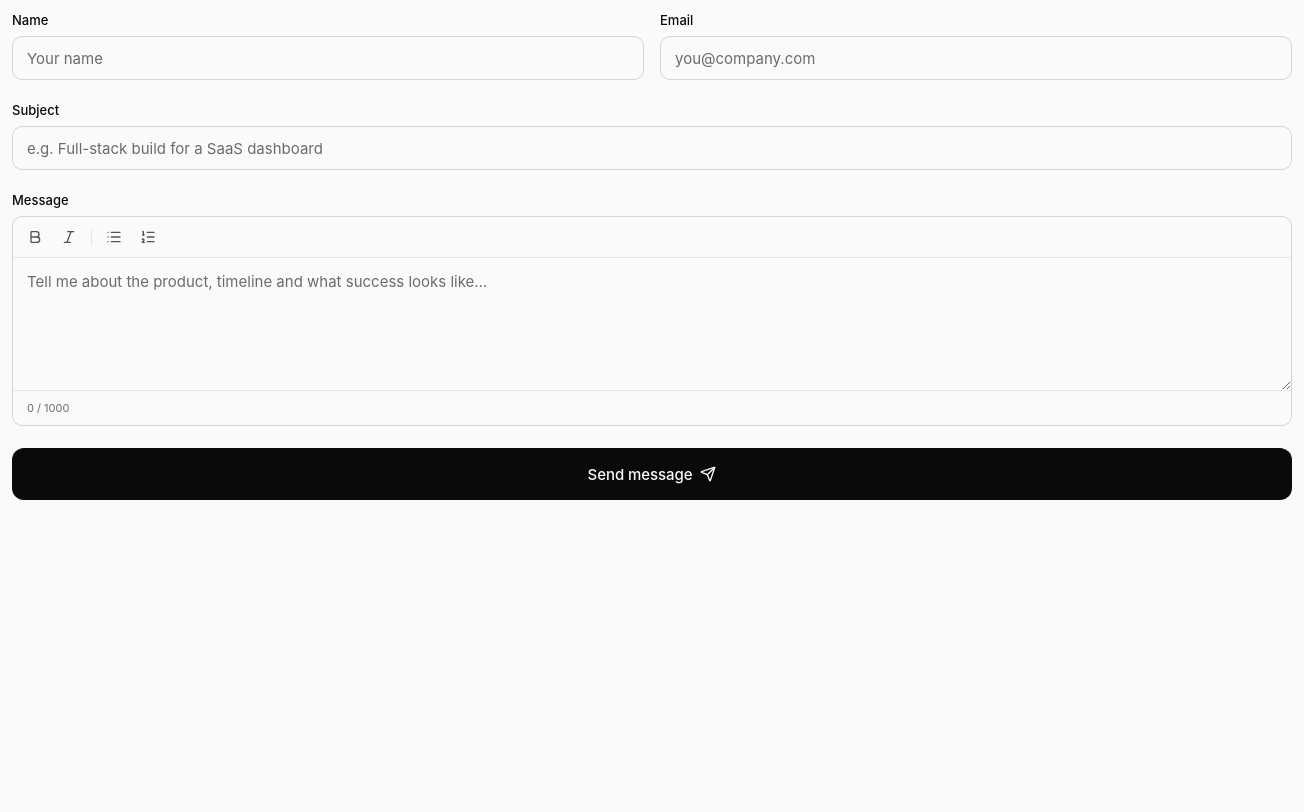
Test case: ContactForm › clears only the edited field's error as the visitor types
Step 1. Click the button "Send message" → (652, 474), box [12,448,1292,500]
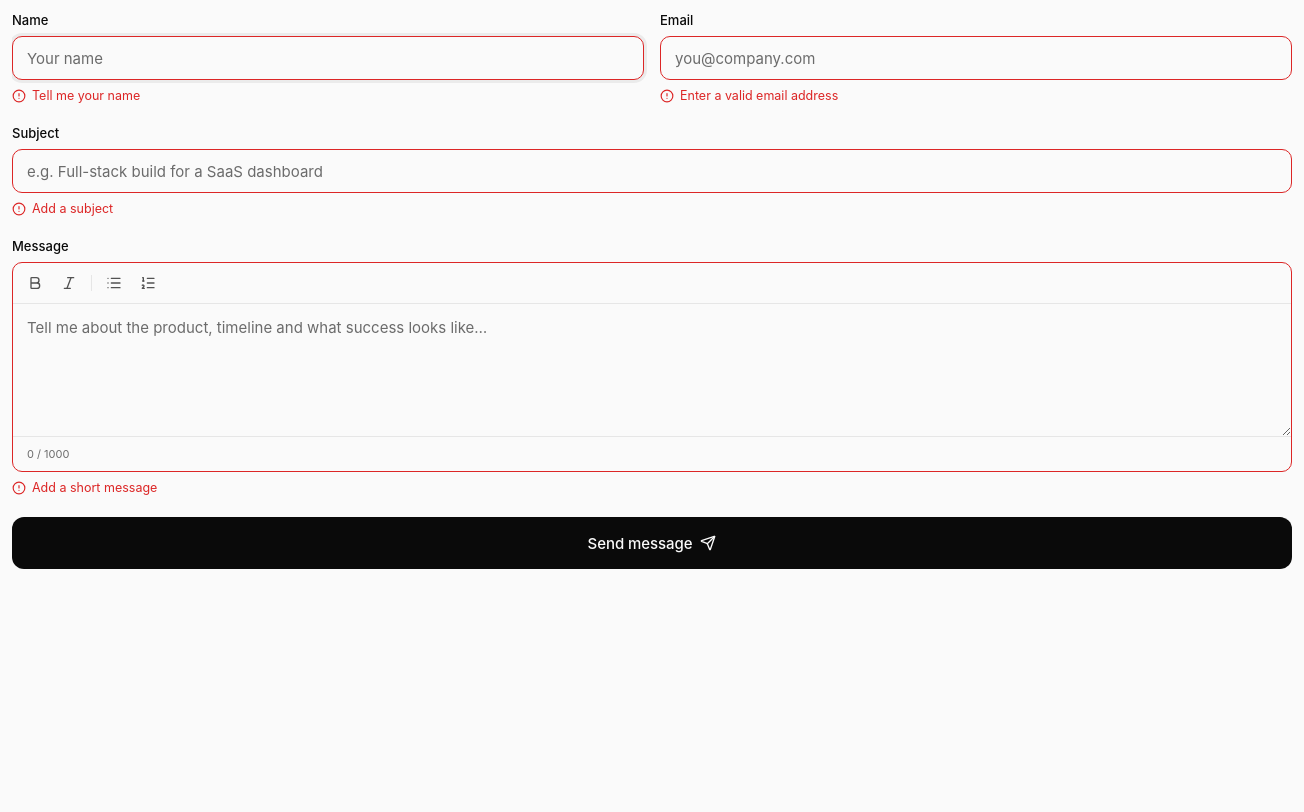
Step 2. Type "J" into the field labelled "Name" → (328, 58), box [12,36,644,80]
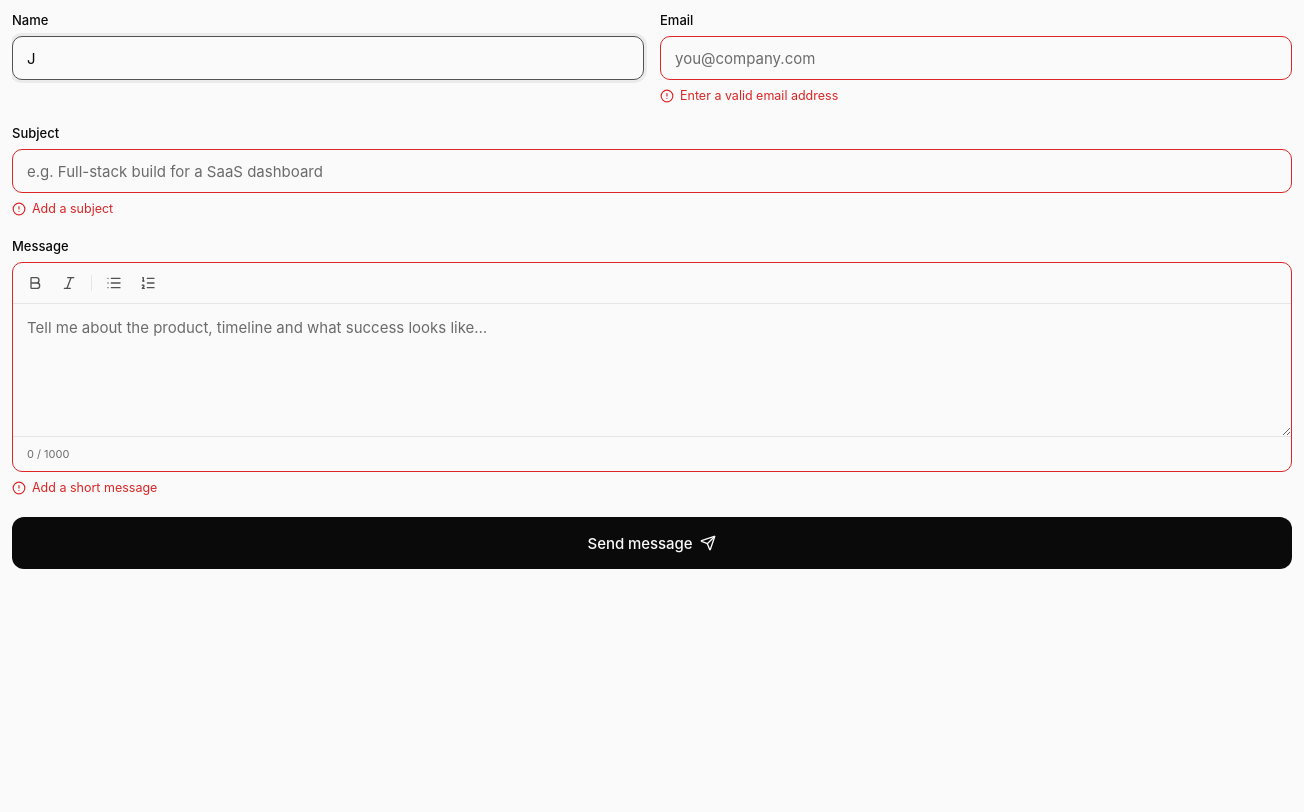
Now the text "Tell me your name" is gone
